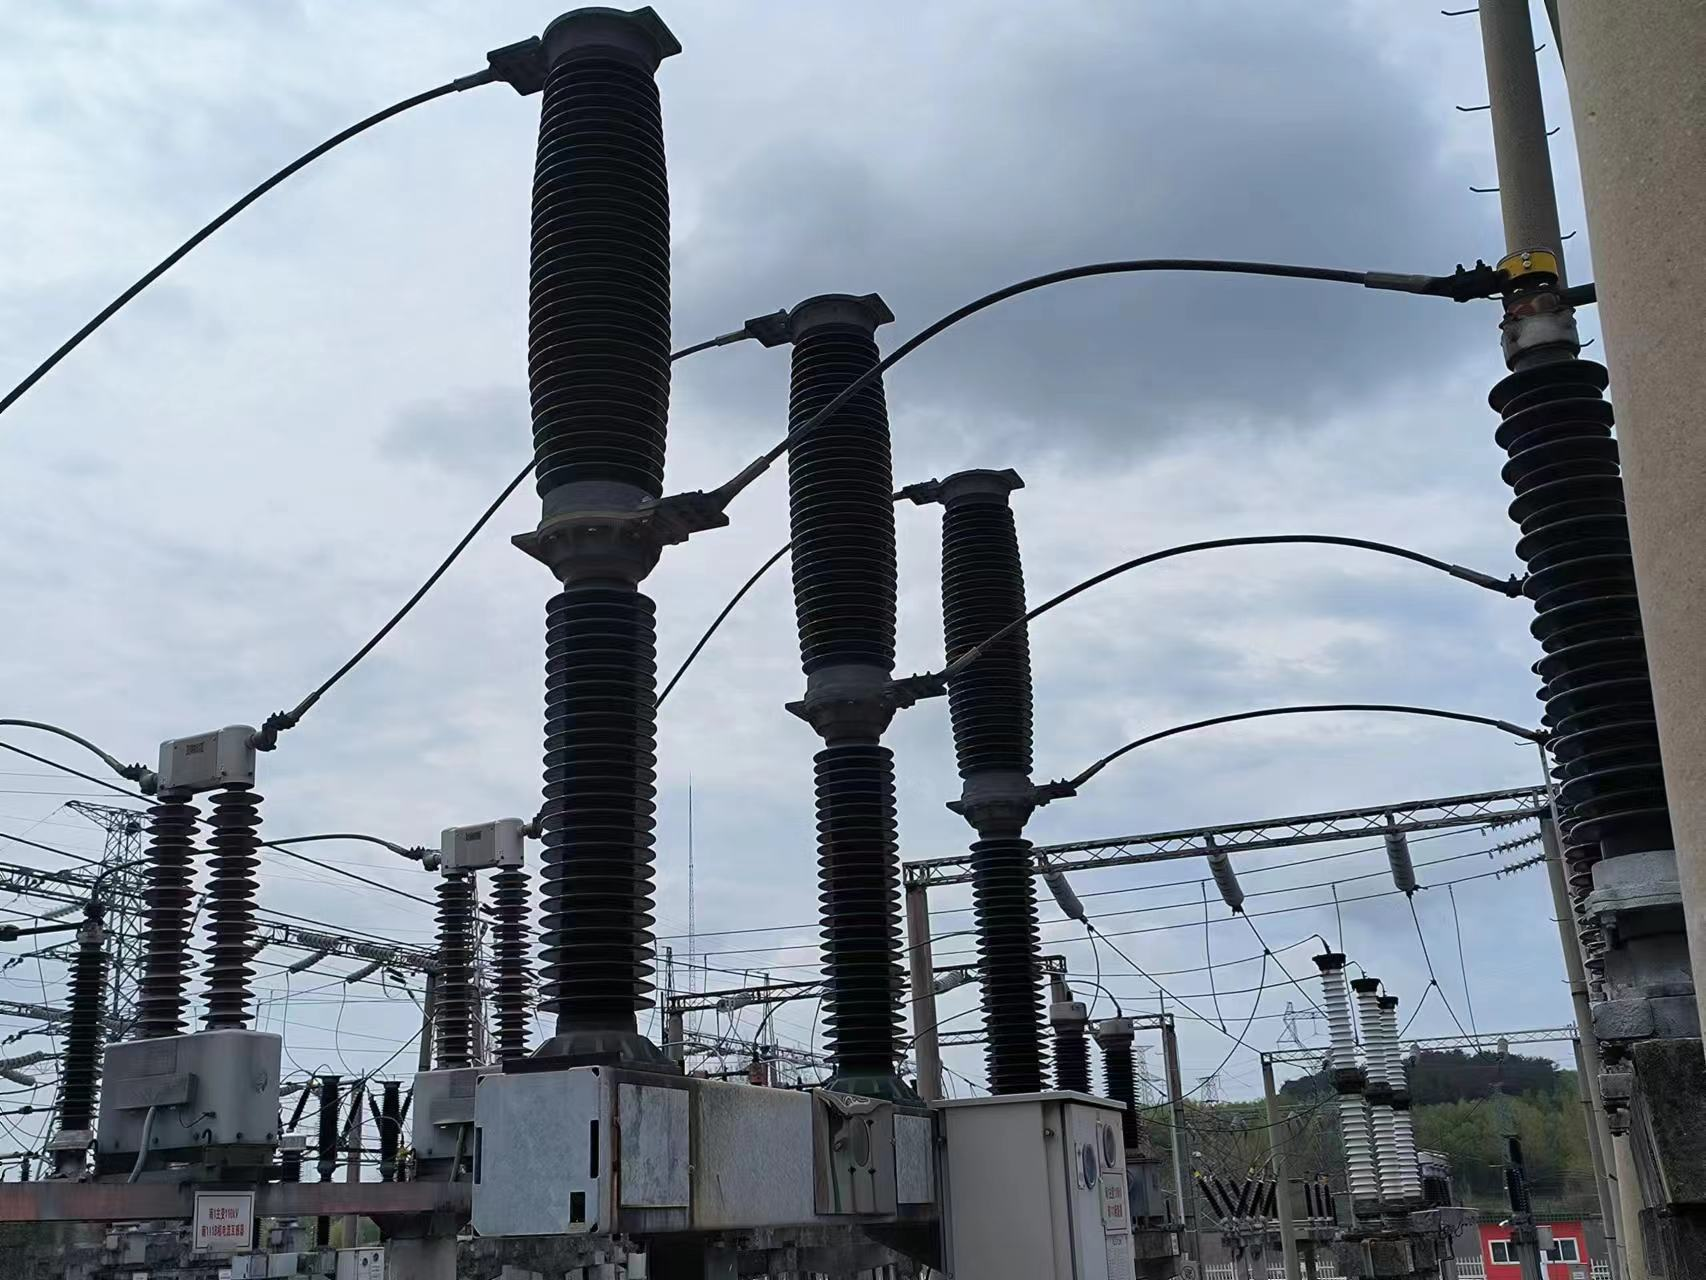Circuit-breaker: (488, 1, 686, 1064), (737, 290, 907, 1090), (905, 446, 1049, 1093)
